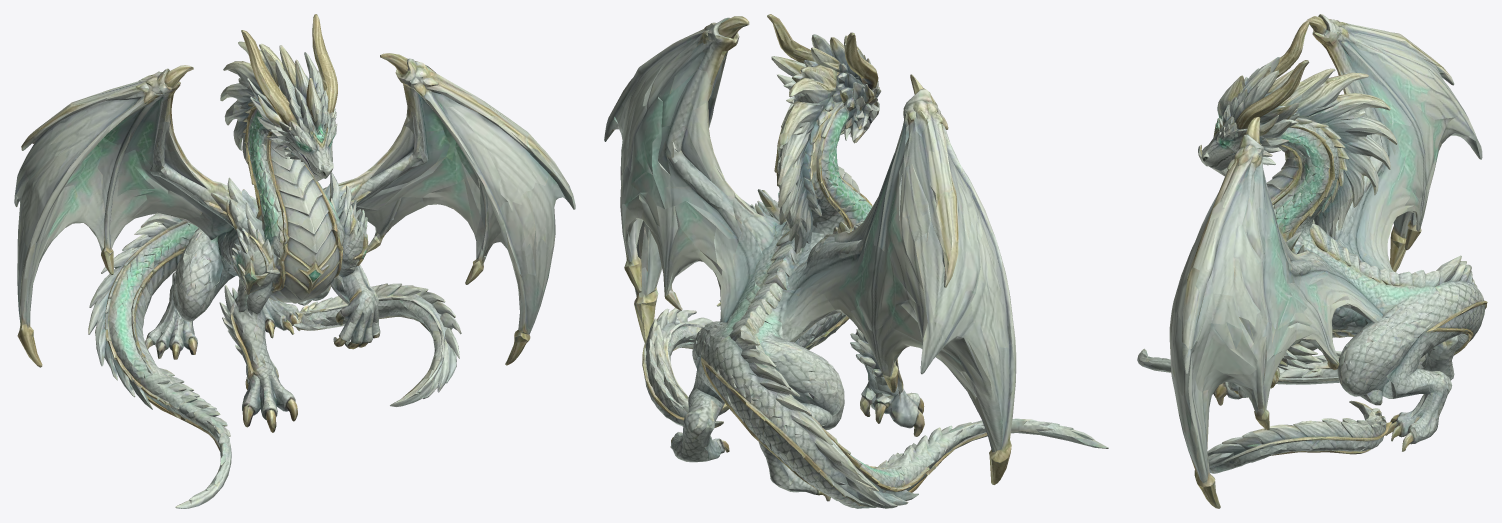
File: mystic_dragon_white.glb
3 views of the same model, side by side, from view 1: azimuth 30°, elevation 25°; view 2: azimuth 150°, elevation 25°; view 3: azimuth 270°, elevation 25° (orthographic). The views are drawn at different scales.
Size of the model in its own units: 1.9 by 1.54 by 1.21.
1 material, 1 textured.
